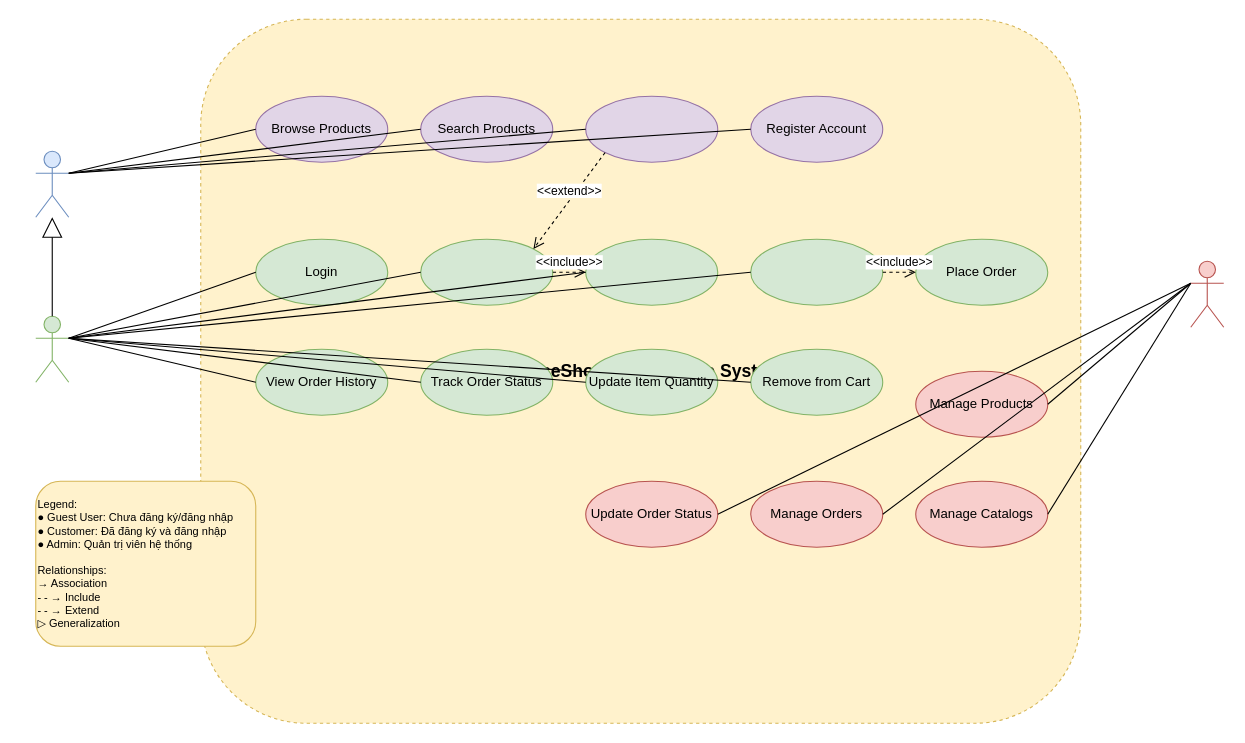
The diagram is 1245 pixels wide and 743 high, and some of its shapes have lost their labels. Here are the shapes that lost their labels. From the top down, the centre of each, then its label:
At (651,128): "View Product Details".
At (52,183): "Guest User".
At (486,271): "Add to Cart".
At (651,271): "Manage Cart".
At (816,271): "Checkout".
At (1207,293): "Admin".
At (52,348): "Customer".
